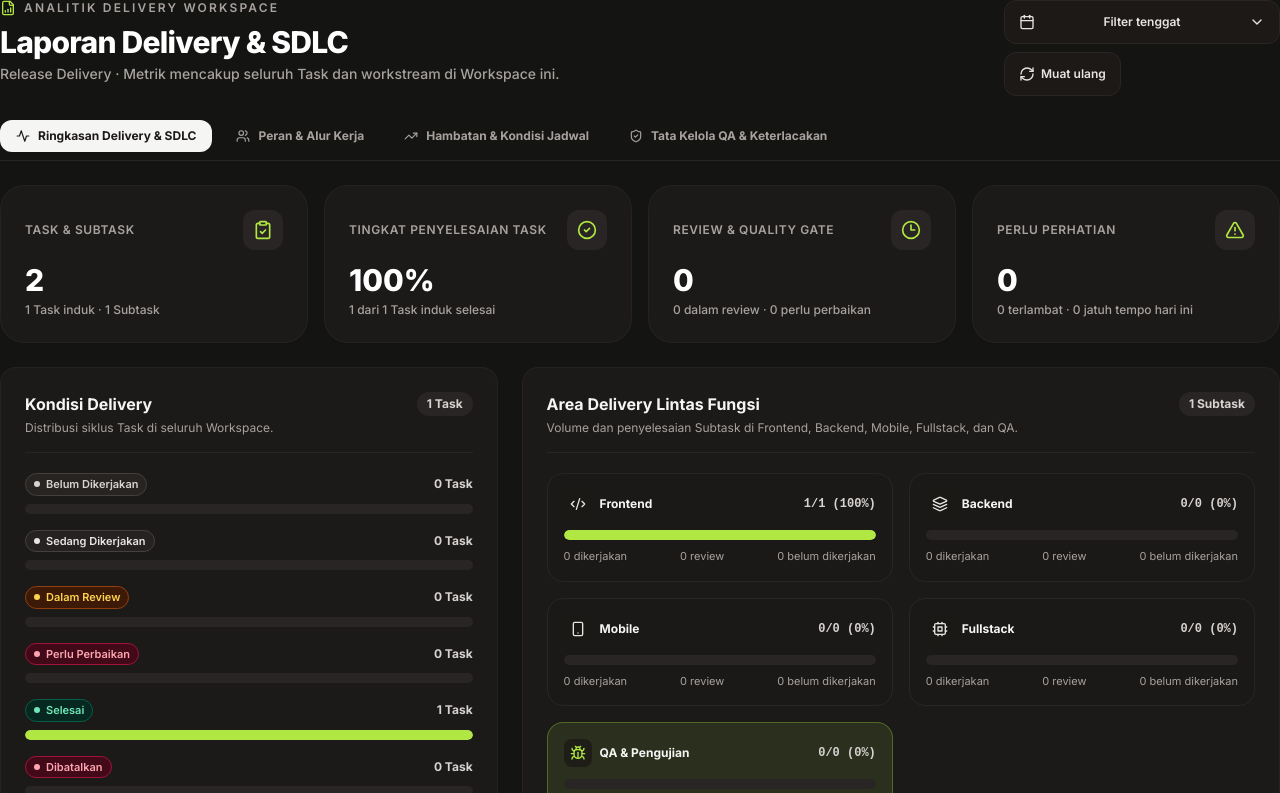
it: TaskReportDashboard › allows switching between SDLC Overview, Peran & Alur Kerja, and Bottlenecks tabs
The image size is (1280, 793).
Switch to Roles & Workstreams tab
What coordinates should you click on to do the following:
click the button "Peran & Alur Kerja"
I would click on:
 (300, 136)
Its box is [220,120,380,152].
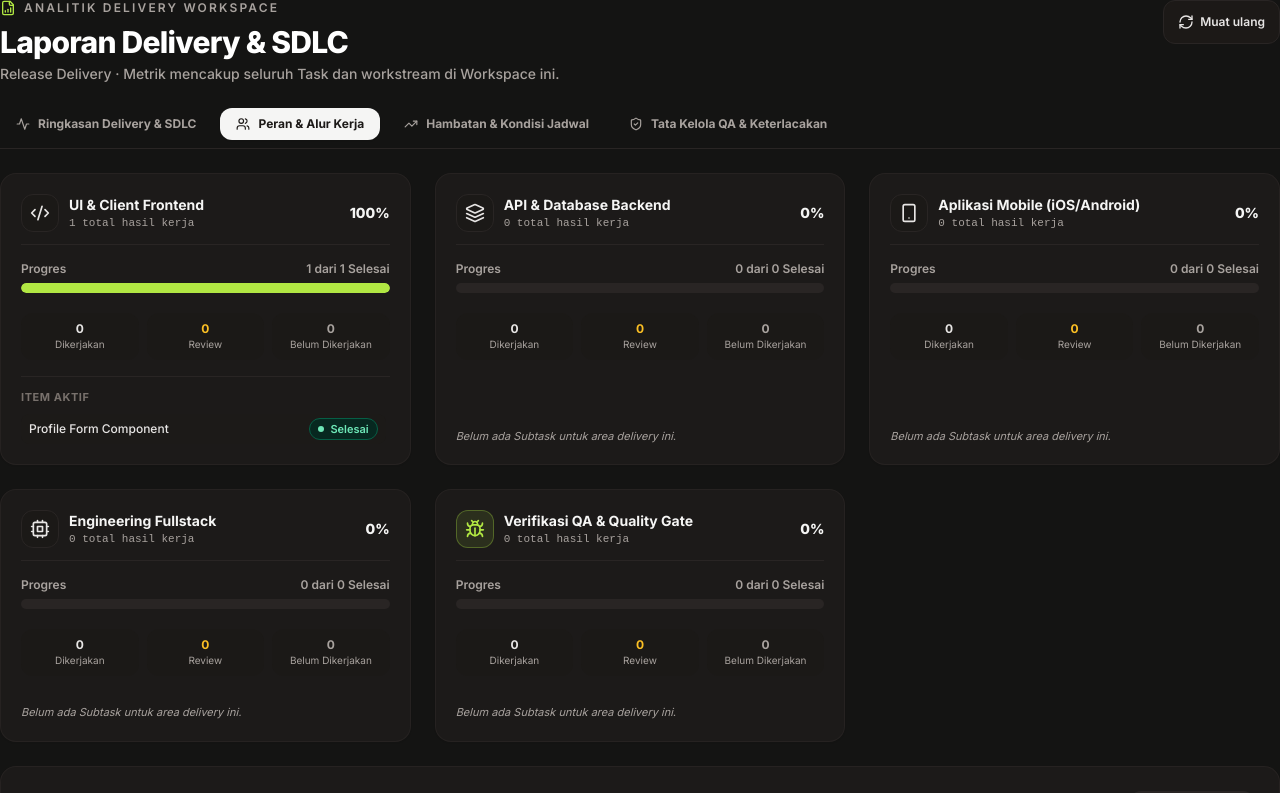
Switch to Bottlenecks tab
What coordinates should you click on to do the following:
click the button "Hambatan & Kondisi Jadwal"
I would click on:
 (497, 124)
Its box is [388,108,605,140].
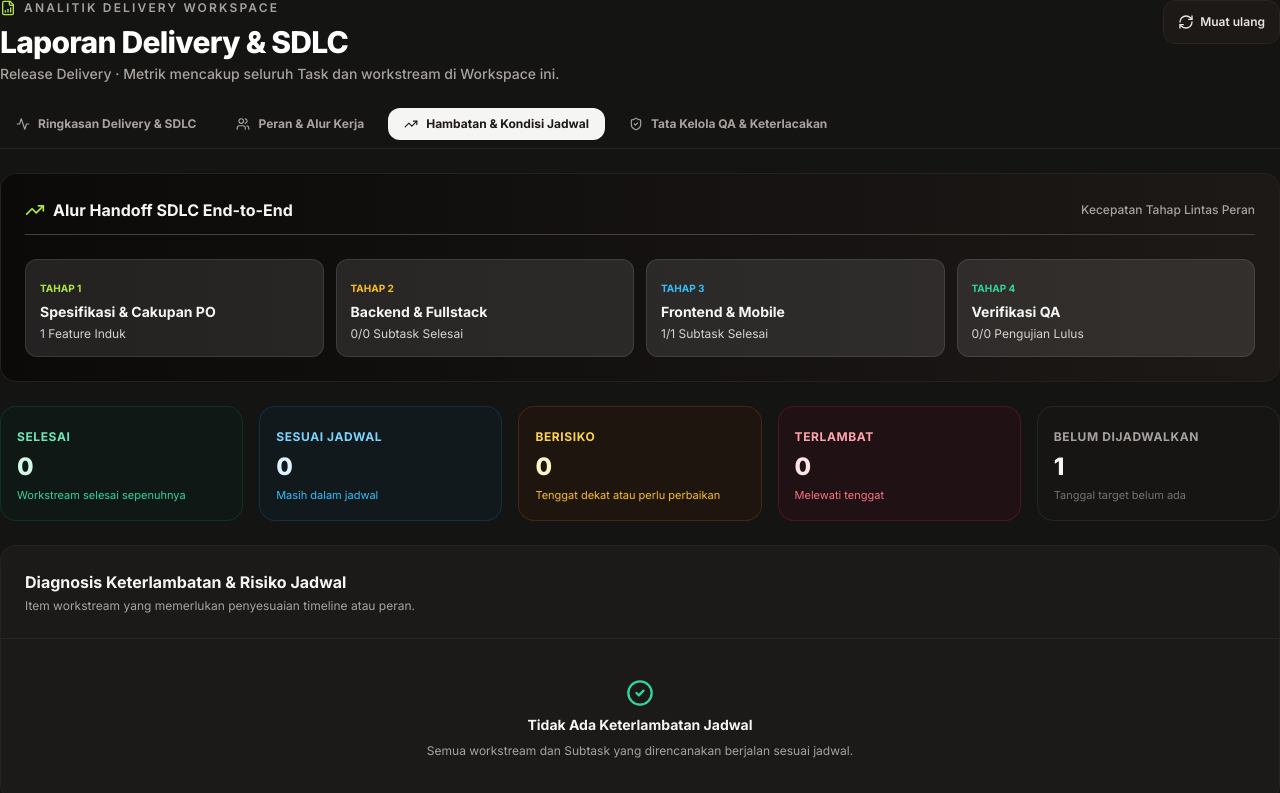
Now the heading "Alur Handoff SDLC End-to-End" is shown, box [53,198,293,222]
Now the heading "Diagnosis Keterlambatan & Risiko Jadwal" is shown, box [25,572,346,592]
